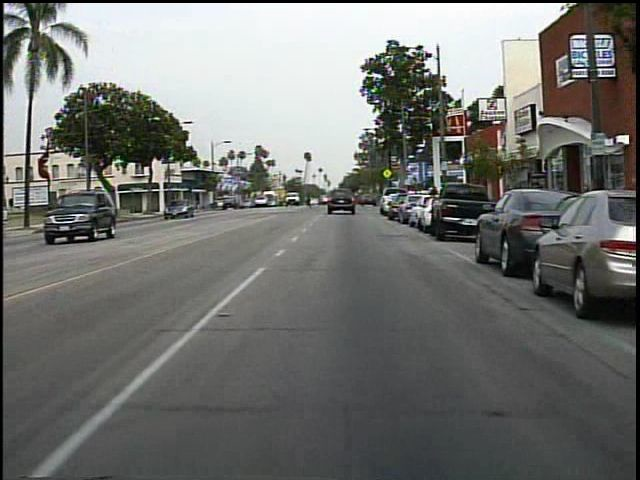person: (305, 186, 319, 214), (426, 181, 442, 196)
